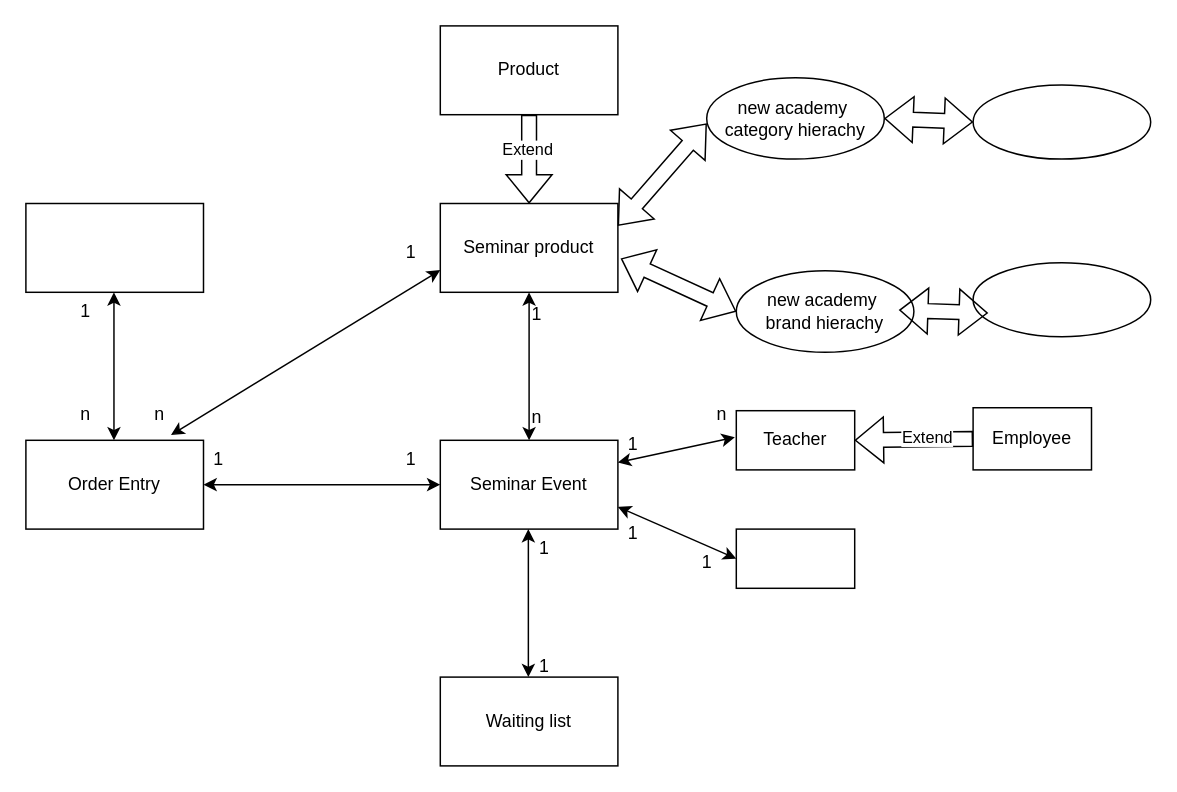
This 1177x792 diagram has some shape labels left out. The centre of each missing label's shape, as x and y in pixels:
bgrootbrand egrootbrand: pixel 1061 299
bgrootcategory egrootcategory: pixel 1061 121
Order: pixel 114 247
Venue: pixel 795 558
